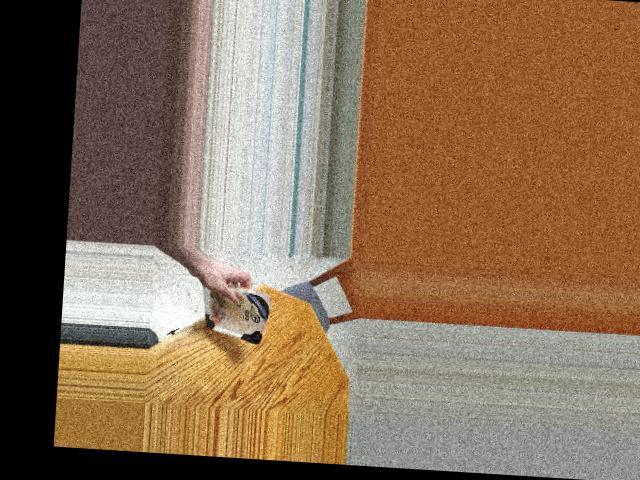cheese: (191, 284, 275, 340)
